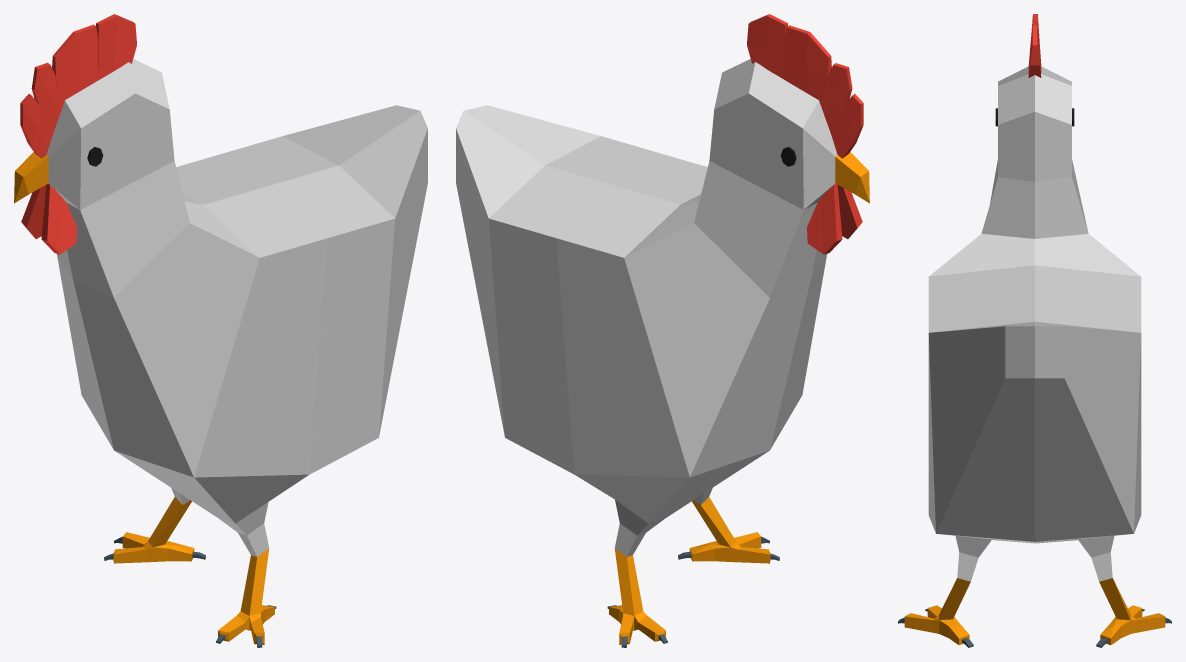
Rendered from Chicken.glb.
3 views of the same model, side by side, from view 1: azimuth 30°, elevation 25°; view 2: azimuth 150°, elevation 25°; view 3: azimuth 270°, elevation 25° (orthographic). The views are drawn at different scales.
Visible parts, largest first — view 1: Cube.035_Cube.034; view 2: Cube.035_Cube.034; view 3: Cube.035_Cube.034.
Part boxes in pixels (x1,y1,x2,y2): Cube.035_Cube.034: (14, 14, 427, 647); Cube.035_Cube.034: (456, 14, 869, 647); Cube.035_Cube.034: (898, 14, 1171, 647).
Size of the model in its own units: 0.7602 by 1.07 by 0.47.
